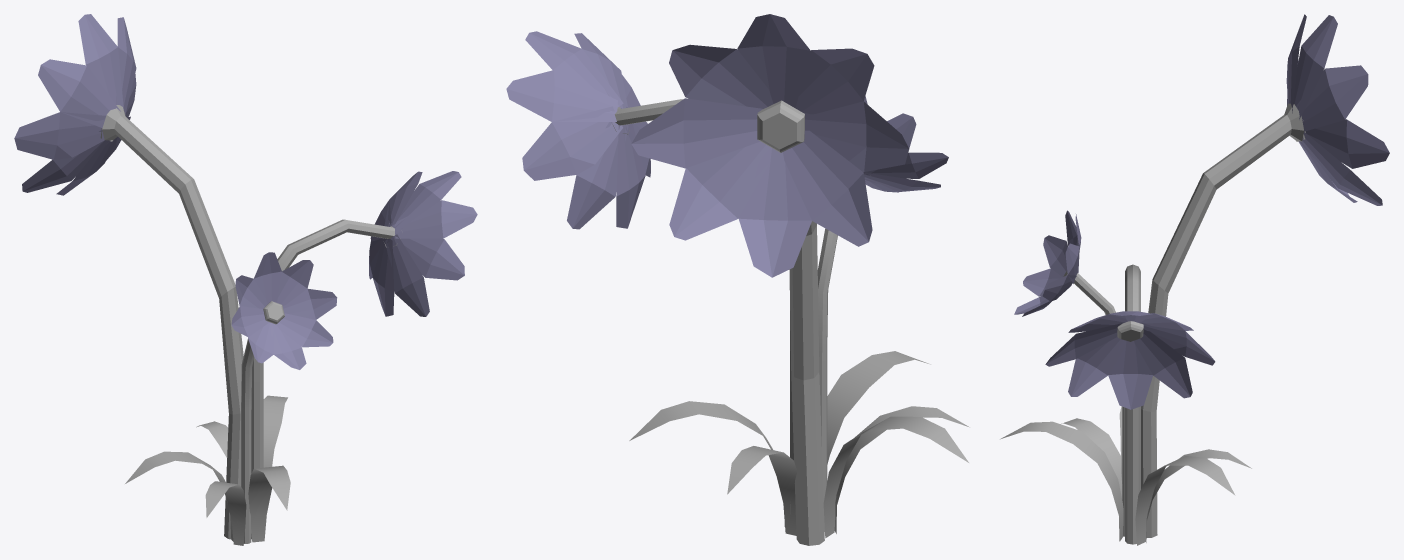
The model's file is Flores var3.fbx.
The picture shows the model from 3 angles, left to right: view 1: azimuth 30°, elevation 25°; view 2: azimuth 150°, elevation 25°; view 3: azimuth 270°, elevation 25°; orthographic projection. The views are drawn at different scales.
Visible parts, largest first — view 1: caule_geo, petalas_geo3, petalas_geo2, petalas_geo1, mato_geo; view 2: petalas_geo3, petalas_geo2, caule_geo, mato_geo, petalas_geo1, botoes_geo; view 3: caule_geo, petalas_geo3, petalas_geo2, mato_geo, petalas_geo1, botoes_geo.
Boxes of the visible parts, x1,y1,x2,y2 form: caule_geo: (102,105,394,543); petalas_geo3: (14,14,136,195); petalas_geo2: (369,171,477,316); petalas_geo1: (231,252,337,369); mato_geo: (125,395,290,545); petalas_geo3: (631,14,909,277); petalas_geo2: (506,31,650,229); caule_geo: (614,99,837,545); mato_geo: (629,351,969,538); petalas_geo1: (863,96,948,192); botoes_geo: (612,100,804,152); caule_geo: (1074,103,1303,544); petalas_geo3: (1286,14,1389,205); petalas_geo2: (1045,311,1215,409); mato_geo: (1000,406,1251,545); petalas_geo1: (1014,210,1081,316); botoes_geo: (1063,120,1305,341).
Bounding box in the file's own units: 1.32 × 1.64 × 1.19.
